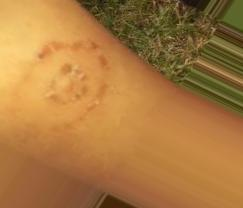Tick: (21, 33, 110, 137)
